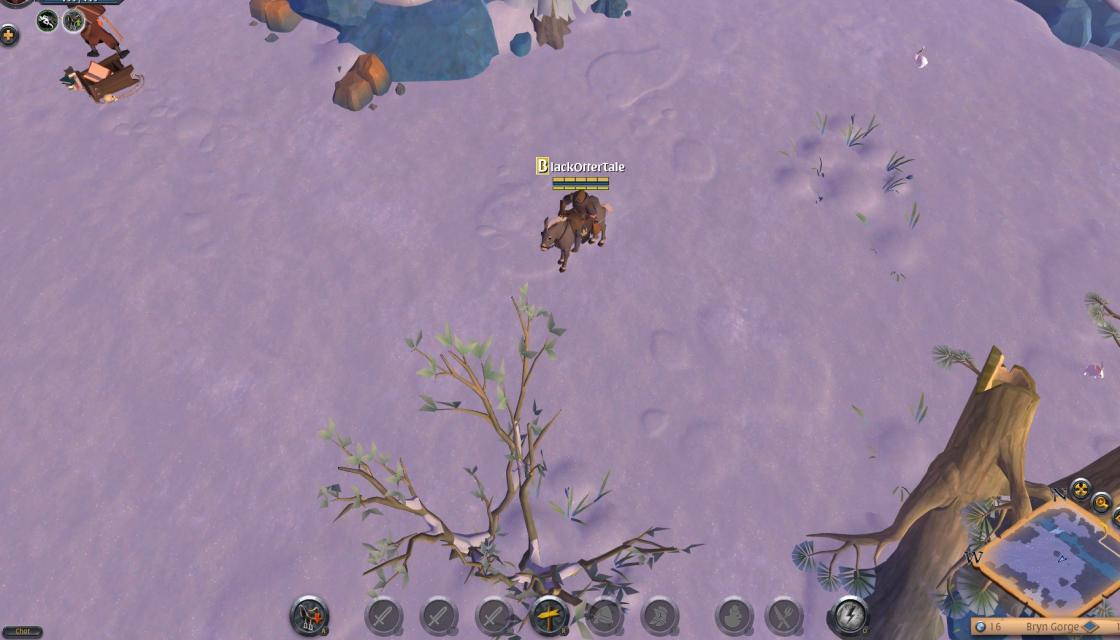copperore: (587, 0, 632, 20)
limestone: (328, 48, 394, 118), (243, 0, 307, 36)
